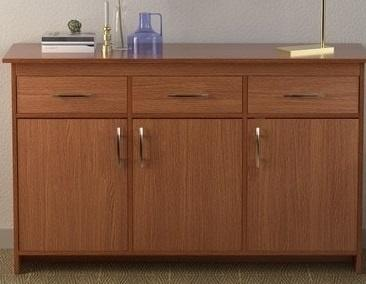cabinet_door: (136, 120, 247, 253), (17, 119, 128, 251), (250, 119, 361, 249), (248, 67, 363, 116), (15, 76, 128, 116), (132, 76, 244, 115)
handle: (251, 125, 262, 171), (166, 91, 210, 102), (54, 90, 93, 102), (281, 91, 320, 102), (137, 126, 147, 165), (115, 127, 124, 164)
